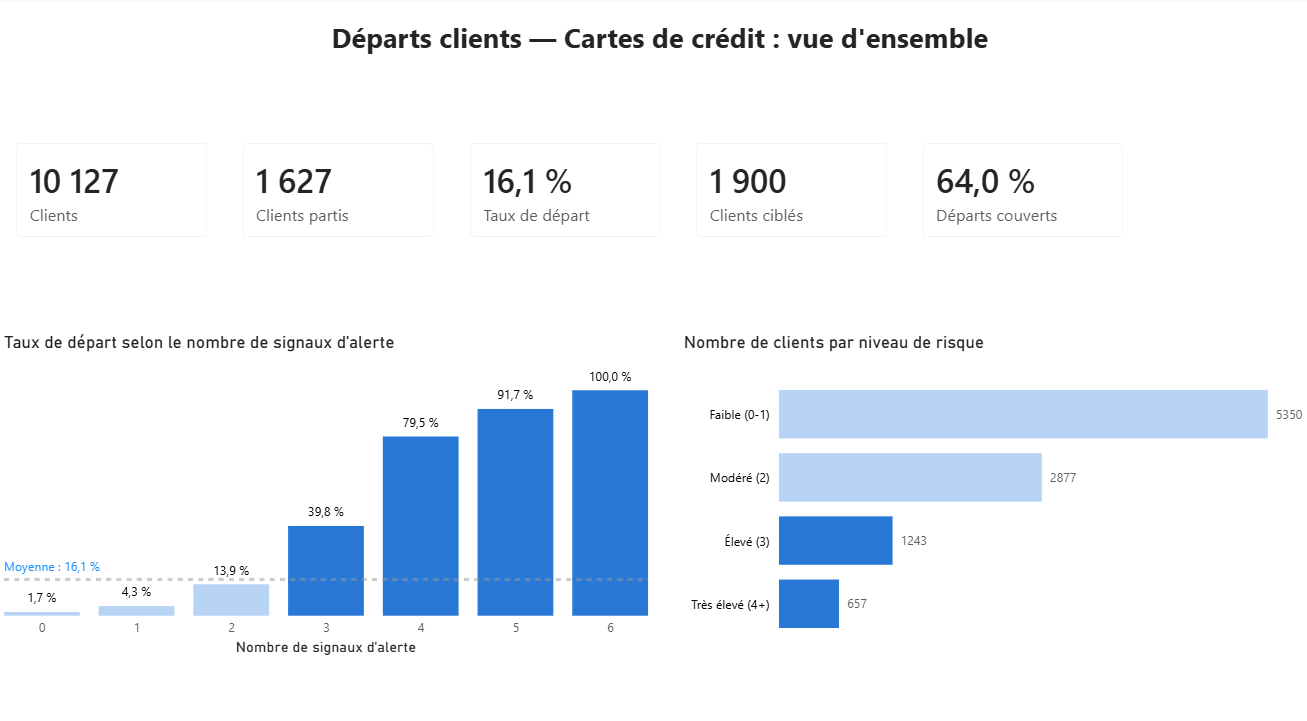

The dashboard page shown, as its layout file describes it:
{"tool":"powerbi","page":{"name":"Vue d'ensemble","canvas":[1280,720],"ordinal":0},"visuals":[{"type":"cardVisual","fields":{"Data":["clients_powerbi.Nb clients (affichage)"]},"box":[0,126.3,221.7,126.3],"z":0},{"type":"cardVisual","fields":{"Data":["clients_powerbi.Nb clients partis (affichage)"]},"box":[221.7,126.3,221.7,126.3],"z":1},{"type":"cardVisual","fields":{"Data":["clients_powerbi.Taux de départ"]},"box":[443.4,126.3,221.7,126.3],"z":2},{"type":"cardVisual","fields":{"Data":["clients_powerbi.Clients ciblés (affichage)"]},"box":[665.1,126.3,221.7,126.3],"z":3},{"type":"cardVisual","fields":{"Data":["clients_powerbi.Part des départs couverts"]},"box":[886.8,126.3,230.5,126.3],"z":4},{"type":"clusteredColumnChart","title":"Taux de départ selon le nombre de signaux d''alerte","fields":{"Category":["clients_powerbi.nb_signaux"],"Y":["clients_powerbi.Taux de départ"]},"box":[0,327.4,640.1,321.5],"z":5},{"type":"clusteredBarChart","title":"Nombre de clients par niveau de risque","fields":{"Category":["clients_powerbi.niveau_risque"],"Y":["clients_powerbi.Nb clients"]},"box":[665.1,327.4,615.2,321.5],"z":6},{"type":"textbox","box":[111.6,16.2,1070.3,86.6],"z":7}]}

Visuals, with their boxes in screenshot pixels (x1, y1, x2, y2), scaled from the page's 1280x720 canvas onto the 1307x721 screenshot:
cardVisual - clients_powerbi.Nb clients (affichage): detection(0, 126, 226, 253)
cardVisual - clients_powerbi.Nb clients partis (affichage): detection(226, 126, 453, 253)
cardVisual - clients_powerbi.Taux de départ: detection(453, 126, 679, 253)
cardVisual - clients_powerbi.Clients ciblés (affichage): detection(679, 126, 906, 253)
cardVisual - clients_powerbi.Part des départs couverts: detection(906, 126, 1141, 253)
"Taux de départ selon le nombre de signaux d''alerte" clusteredColumnChart: detection(0, 328, 654, 650)
"Nombre de clients par niveau de risque" clusteredBarChart: detection(679, 328, 1306, 650)
textbox: detection(114, 16, 1207, 103)
